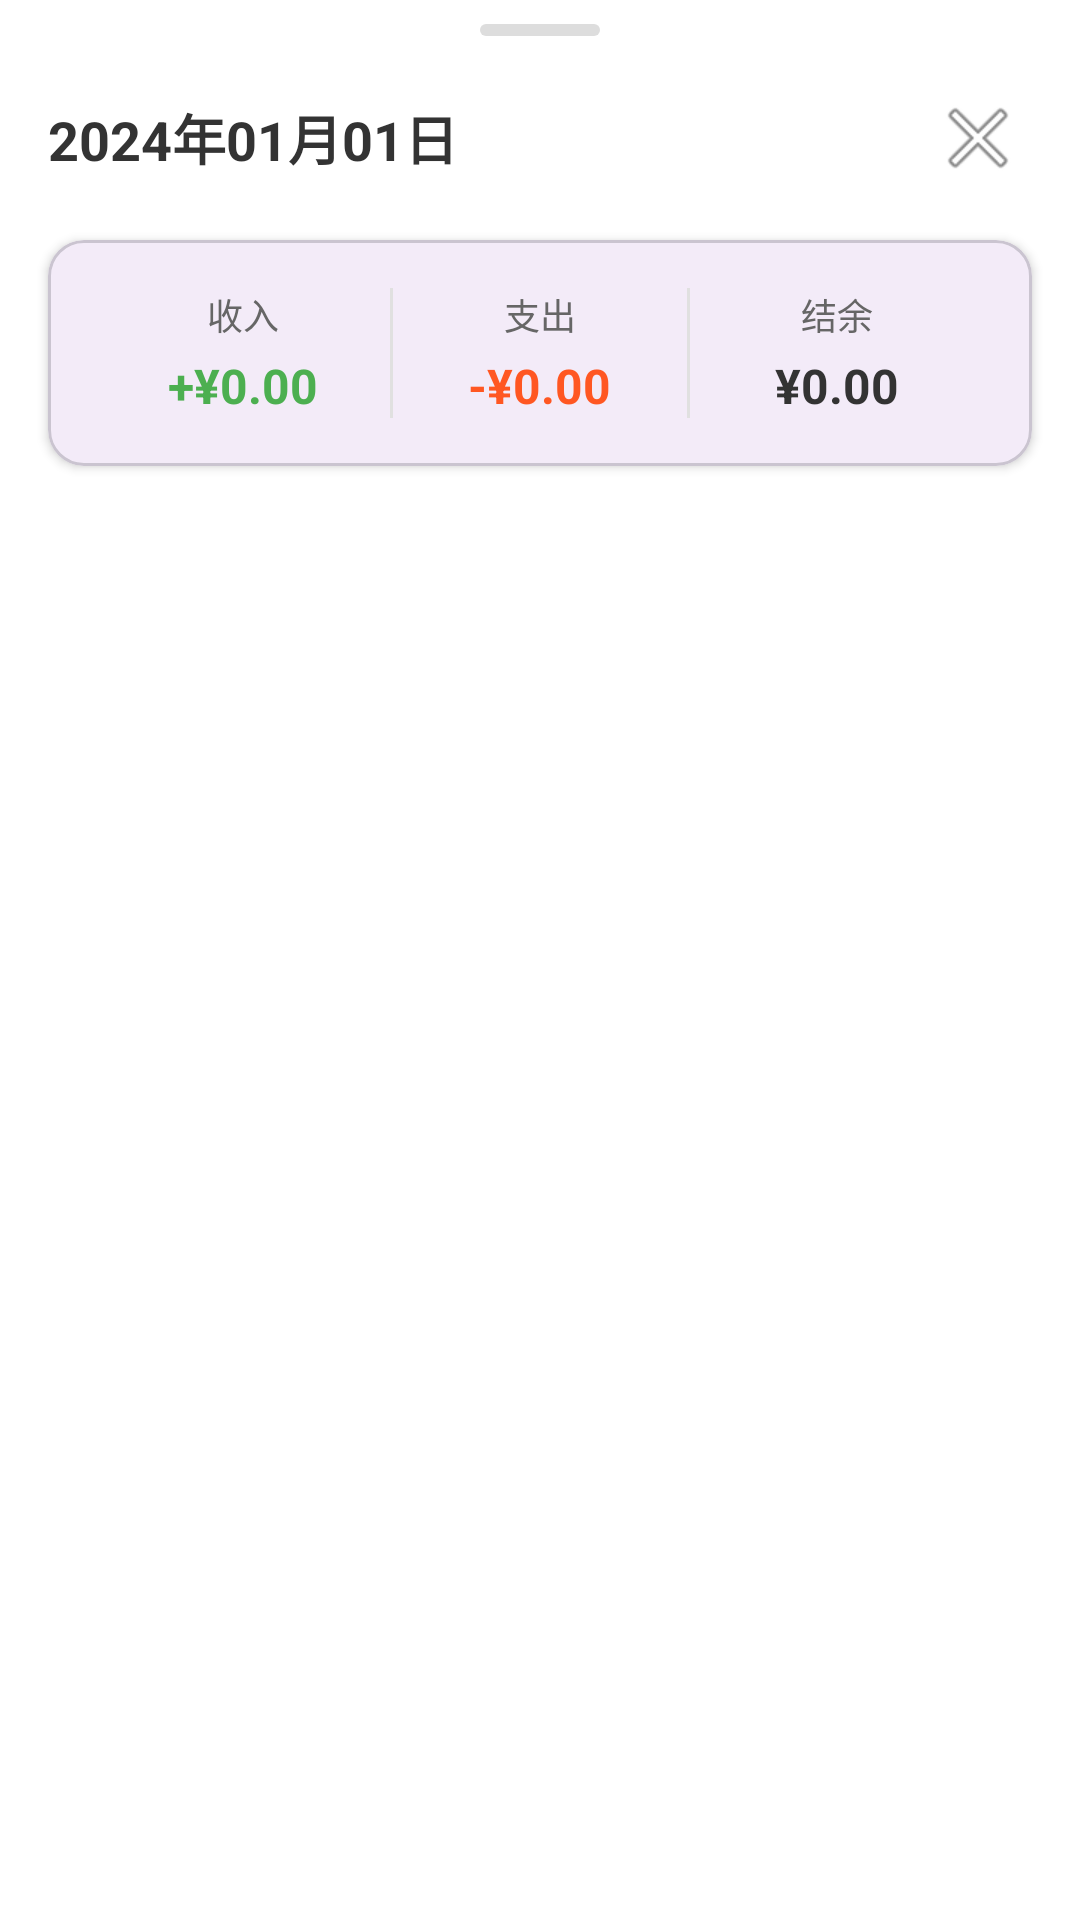

Where to tap for icons on this 1080×1920 app screen, as (x=x, y=y):
关闭: (x=978, y=138)
